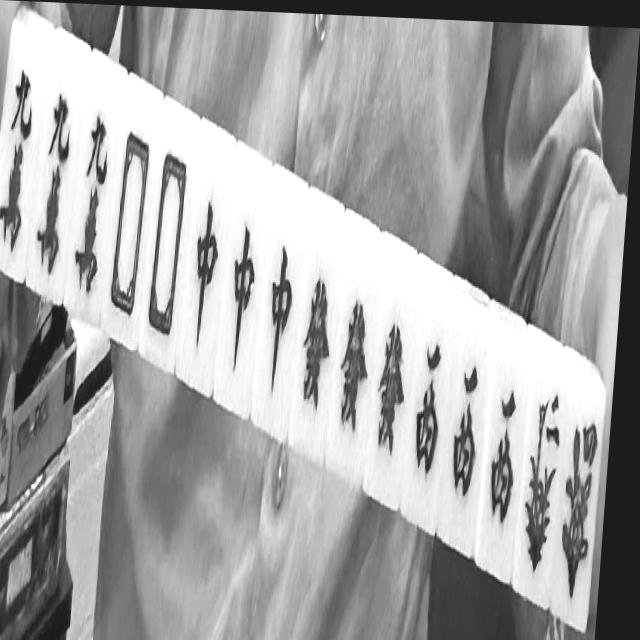bai: (103, 99, 159, 341), (143, 129, 197, 358)
fa: (368, 274, 418, 495), (328, 253, 379, 467), (293, 233, 343, 443)
ff2: (514, 368, 567, 592)
ff4: (555, 393, 606, 615)
m9: (29, 63, 82, 299), (68, 89, 121, 320), (0, 48, 42, 273)
west: (402, 293, 452, 519), (481, 349, 531, 571), (442, 317, 492, 539)
zhong: (252, 205, 307, 419), (179, 160, 230, 374), (219, 176, 269, 392)
